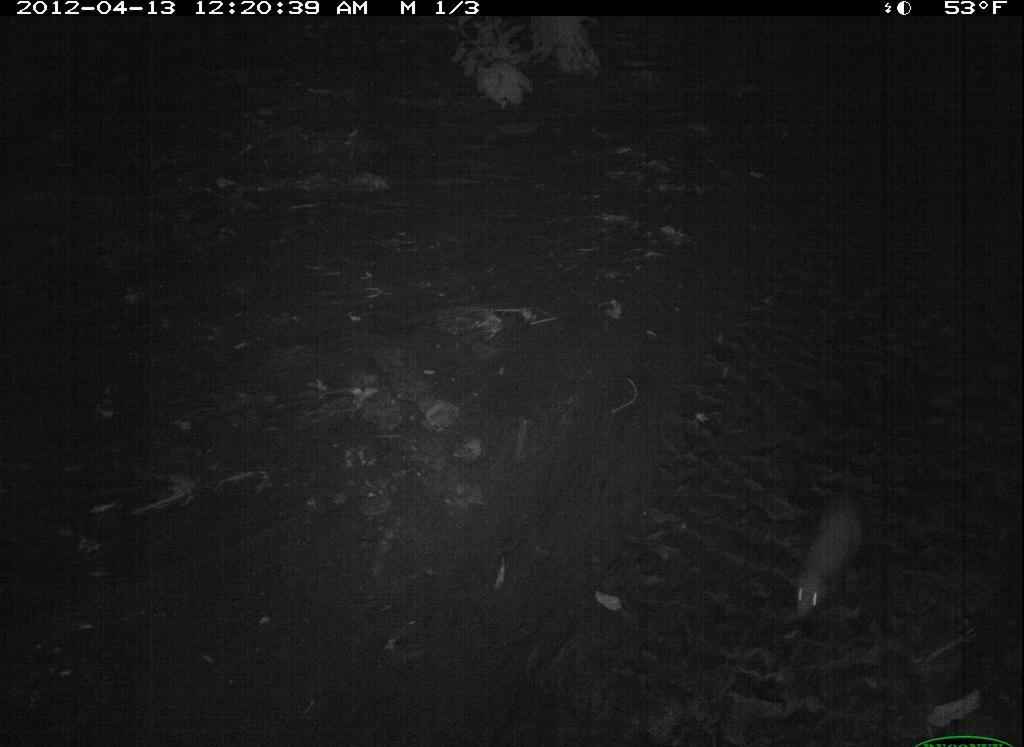opossum: (784, 464, 881, 638)
